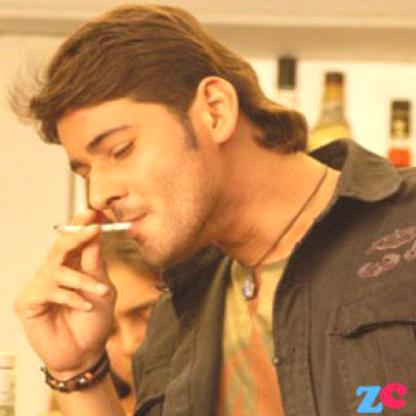cigarette: (51, 221, 135, 238)
person: (28, 0, 416, 415)
